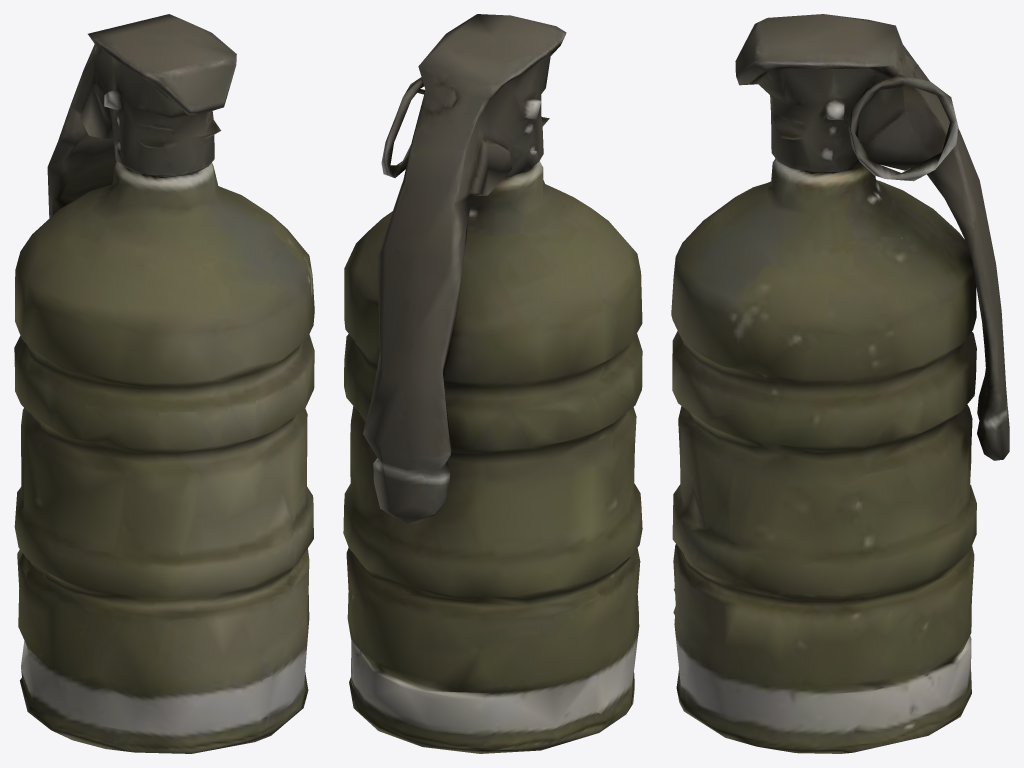
Rendered from smoke_grenade_lod1.glb.
3 views of the same model, side by side, from view 1: azimuth 30°, elevation 25°; view 2: azimuth 150°, elevation 25°; view 3: azimuth 270°, elevation 25° (orthographic).
Visible parts, largest first — view 1: smoke_grenade; view 2: smoke_grenade; view 3: smoke_grenade.
Part boxes in pixels (bbox=[...]): smoke_grenade: bbox=[14, 14, 314, 753]; smoke_grenade: bbox=[343, 14, 642, 753]; smoke_grenade: bbox=[671, 14, 1009, 753].
Bounding box in the file's own units: 0.0618 × 0.15 × 0.0696.
Materials: 1 (1 with a texture image).
